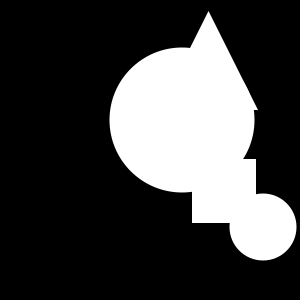circle: (192, 159, 256, 223)
rectangle: (110, 48, 255, 193), (230, 194, 296, 260)
triangle: (159, 11, 258, 110)
